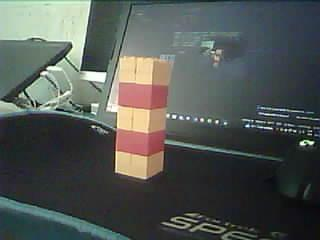lego: (114, 56, 173, 180)
